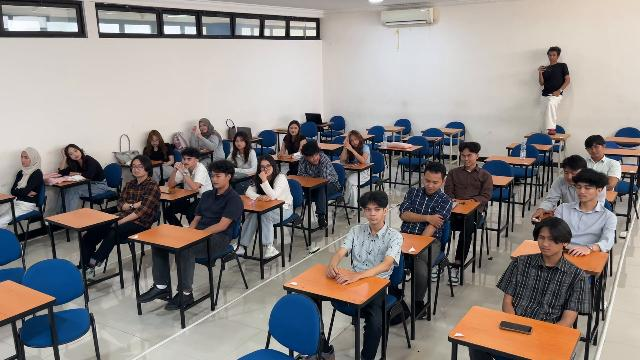bingung: (538, 234, 557, 256), (576, 181, 594, 202), (364, 206, 383, 223), (423, 177, 440, 194), (563, 168, 579, 184), (210, 172, 224, 187), (131, 162, 144, 176), (586, 145, 601, 157), (68, 148, 81, 160), (182, 156, 196, 167), (21, 152, 31, 167), (260, 163, 273, 174), (309, 152, 320, 164), (349, 137, 359, 147), (234, 139, 245, 148), (289, 125, 298, 136), (150, 137, 159, 147), (199, 123, 208, 132)
